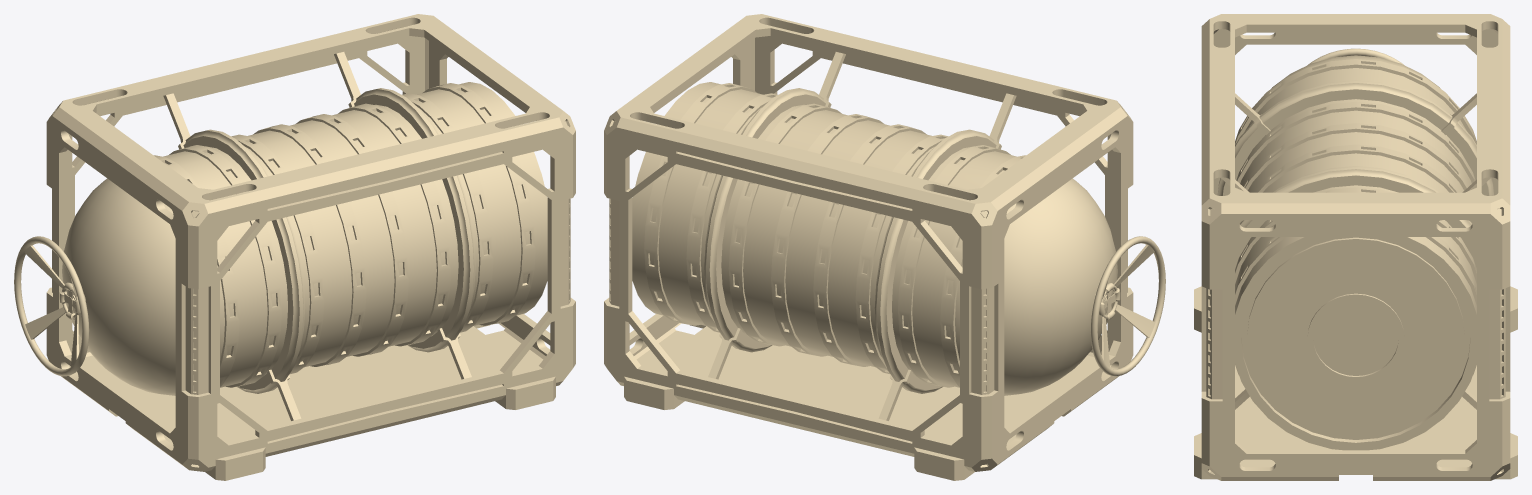
The model's file is cargo_box11.fbx.
3 views of the same model, side by side, from view 1: azimuth 30°, elevation 25°; view 2: azimuth 150°, elevation 25°; view 3: azimuth 270°, elevation 25° (orthographic). The views are drawn at different scales.
Visible parts, largest first — view 1: Cube.031, Cube.029, Cube.012_Piece.007, Cube.012_Piece.009, Cube.012_Piece.008, Torus.002, Cube.012_Piece.001_Piece.008, Cube.012_Piece.001_Piece.007; view 2: Cube.031, Cube.029, Cube.012_Piece.007, Cube.012_Piece.009, Cube.012_Piece.008, Torus.002, Cube.012_Piece.001_Piece.008, Cube.012_Piece.001_Piece.007; view 3: Cube.031, Cube.029, Cube.012_Piece.007, Cube.012_Piece.008, Cube.012_Piece.009, Cube.012_Piece.001_Piece.007, Cube.012_Piece.001_Piece.008, Torus.002.
Boxes of the visible parts, x1=… form: Cube.031: x1=46, y1=14, x2=575, y2=480; Cube.029: x1=62, y1=82, x2=547, y2=395; Cube.012_Piece.007: x1=154, y1=83, x2=535, y2=387; Cube.012_Piece.009: x1=354, y1=88, x2=475, y2=352; Cube.012_Piece.008: x1=183, y1=129, x2=305, y2=393; Torus.002: x1=14, y1=236, x2=89, y2=376; Cube.012_Piece.001_Piece.008: x1=334, y1=52, x2=471, y2=379; Cube.012_Piece.001_Piece.007: x1=163, y1=93, x2=301, y2=420; Cube.031: x1=604, y1=14, x2=1133, y2=480; Cube.029: x1=632, y1=82, x2=1117, y2=395; Cube.012_Piece.007: x1=644, y1=83, x2=1025, y2=387; Cube.012_Piece.009: x1=704, y1=88, x2=825, y2=352; Cube.012_Piece.008: x1=874, y1=129, x2=996, y2=393; Torus.002: x1=1090, y1=236, x2=1165, y2=376; Cube.012_Piece.001_Piece.008: x1=708, y1=52, x2=845, y2=379; Cube.012_Piece.001_Piece.007: x1=878, y1=93, x2=1016, y2=420; Cube.031: x1=1194, y1=14, x2=1517, y2=480; Cube.029: x1=1235, y1=55, x2=1476, y2=450; Cube.012_Piece.007: x1=1235, y1=59, x2=1476, y2=374; Cube.012_Piece.008: x1=1217, y1=81, x2=1494, y2=195; Cube.012_Piece.009: x1=1235, y1=167, x2=1476, y2=268; Cube.012_Piece.001_Piece.007: x1=1235, y1=93, x2=1476, y2=134; Cube.012_Piece.001_Piece.008: x1=1220, y1=177, x2=1491, y2=409; Torus.002: x1=1307, y1=48, x2=1404, y2=65.
Size of the model in its own units: 94.51 by 54.35 by 55.99.
